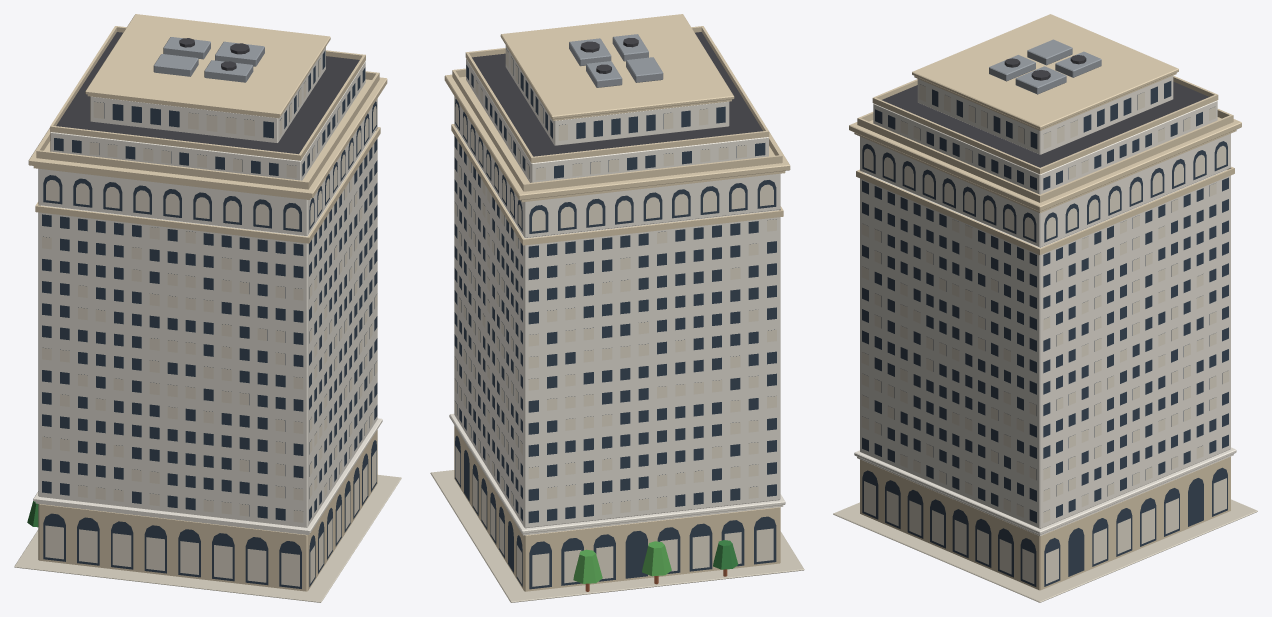
The model's file is pge-general-office.glb.
3 renders of one model, left to right at view 1: azimuth 30°, elevation 25°; view 2: azimuth 150°, elevation 25°; view 3: azimuth 270°, elevation 25°, orthographic. The views are drawn at different scales.
Visible parts, largest first — view 1: pge-general-office_body, pge-general-office_night_glow; view 2: pge-general-office_body, pge-general-office_night_glow; view 3: pge-general-office_body, pge-general-office_night_glow.
Part boxes in pixels (x1,y1,x2,y2): pge-general-office_body: (14, 14, 401, 602); pge-general-office_night_glow: (42, 58, 377, 586); pge-general-office_body: (430, 14, 804, 602); pge-general-office_night_glow: (454, 48, 776, 586); pge-general-office_body: (833, 14, 1257, 602); pge-general-office_night_glow: (861, 84, 1229, 583).
Bounding box in the file's own units: 67.73 × 79.8 × 67.75.
